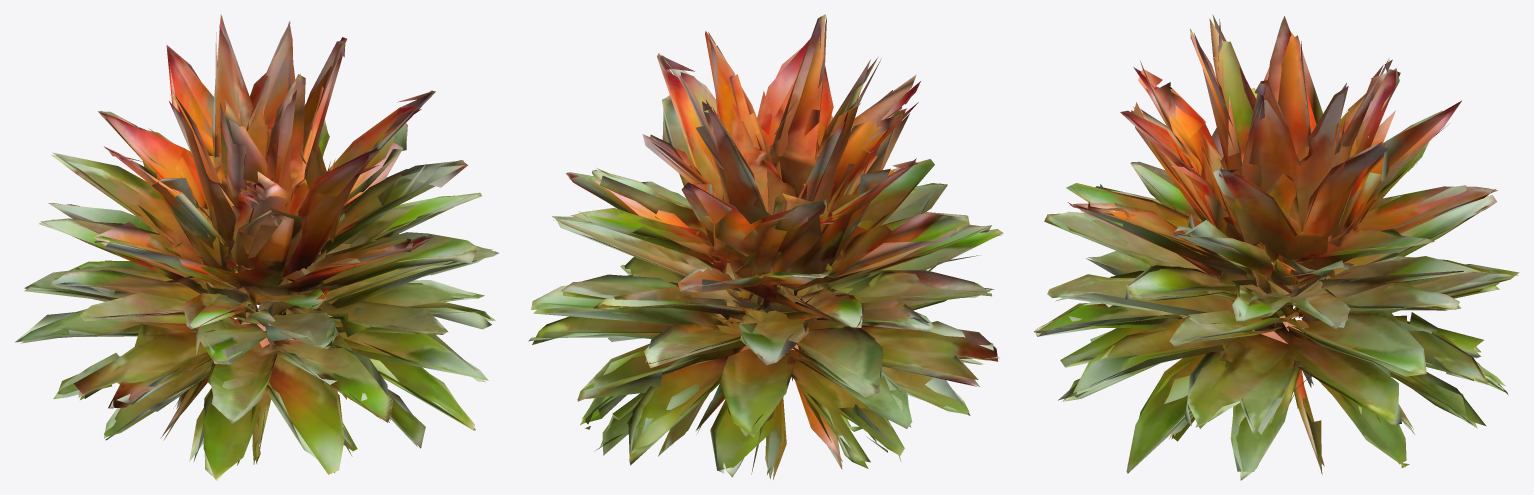
Rendered from bromeliads.glb.
3 views of the same model, side by side, from view 1: azimuth 30°, elevation 25°; view 2: azimuth 150°, elevation 25°; view 3: azimuth 270°, elevation 25° (orthographic).
Visible parts, largest first — view 1: brom; view 2: brom; view 3: brom.
Part boxes in pixels (x1=…): brom: x1=15, y1=14, x2=498, y2=480; brom: x1=528, y1=14, x2=1003, y2=479; brom: x1=1034, y1=14, x2=1519, y2=480.
Size of the model in its own units: 0.6026 by 0.5508 by 0.6074.
Materials: 1 (1 with a texture image).
